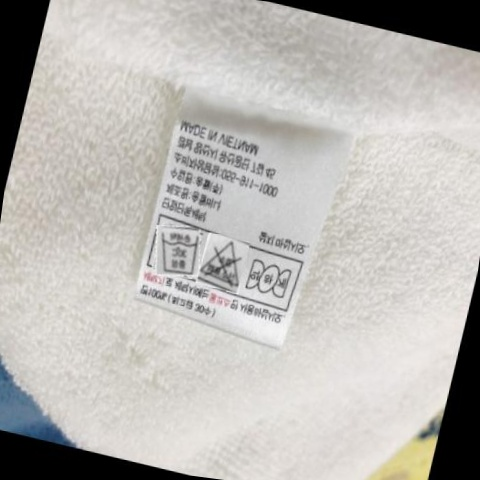DN_bleach: (194, 238, 247, 290)
hand_wash: (147, 225, 201, 276)
wring: (241, 254, 301, 303)
